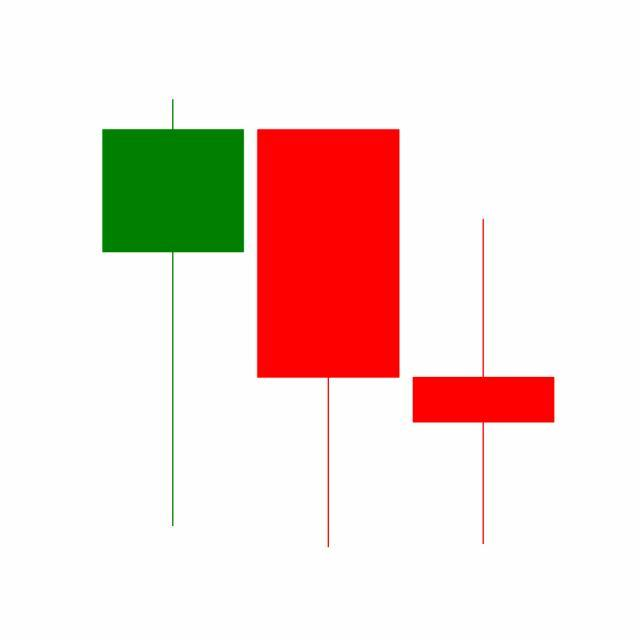Spinning Top: (406, 216, 562, 549)
